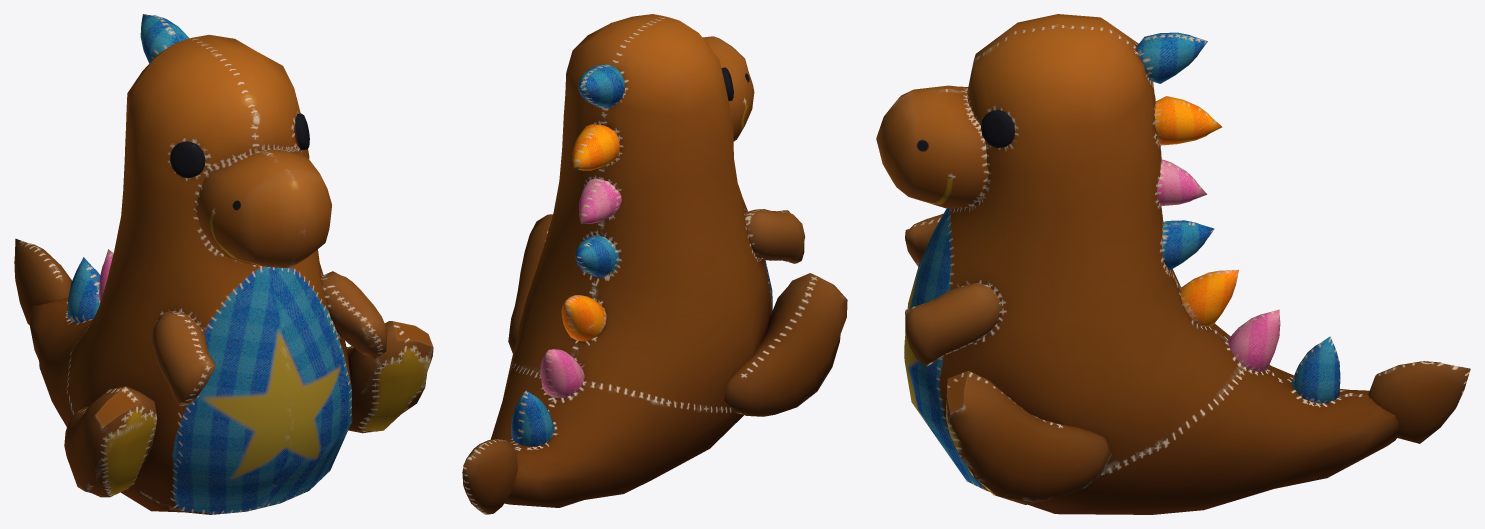
The model's file is Dinosaur.fbx.
3 renders of one model, left to right at view 1: azimuth 30°, elevation 25°; view 2: azimuth 150°, elevation 25°; view 3: azimuth 270°, elevation 25°, orthographic. The views are drawn at different scales.
Visible parts, largest first — view 1: Group39264; view 2: Group39264; view 3: Group39264.
Part boxes in pixels (<box>): Group39264: <box>14,14,433,514</box>; Group39264: <box>462,14,847,514</box>; Group39264: <box>876,14,1470,514</box>.
Bounding box in the file's own units: 176 × 224 × 258.
Materials: 1 (1 with a texture image).
